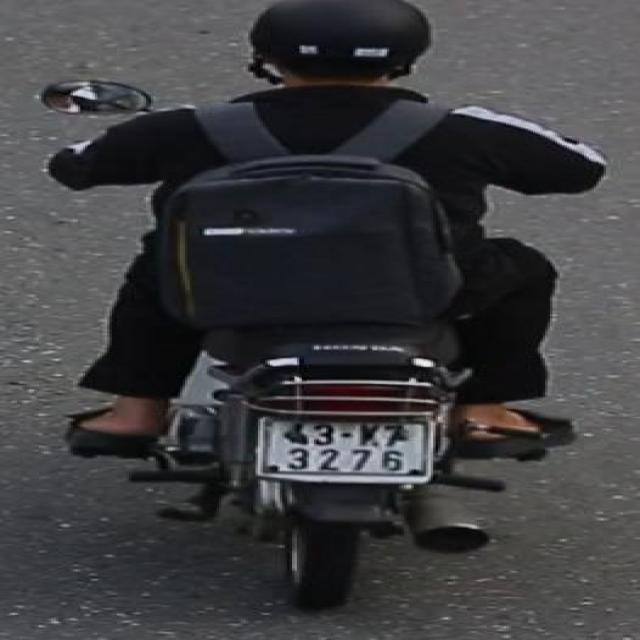LP: (247, 412, 442, 485)
helmet: (231, 0, 443, 101)
